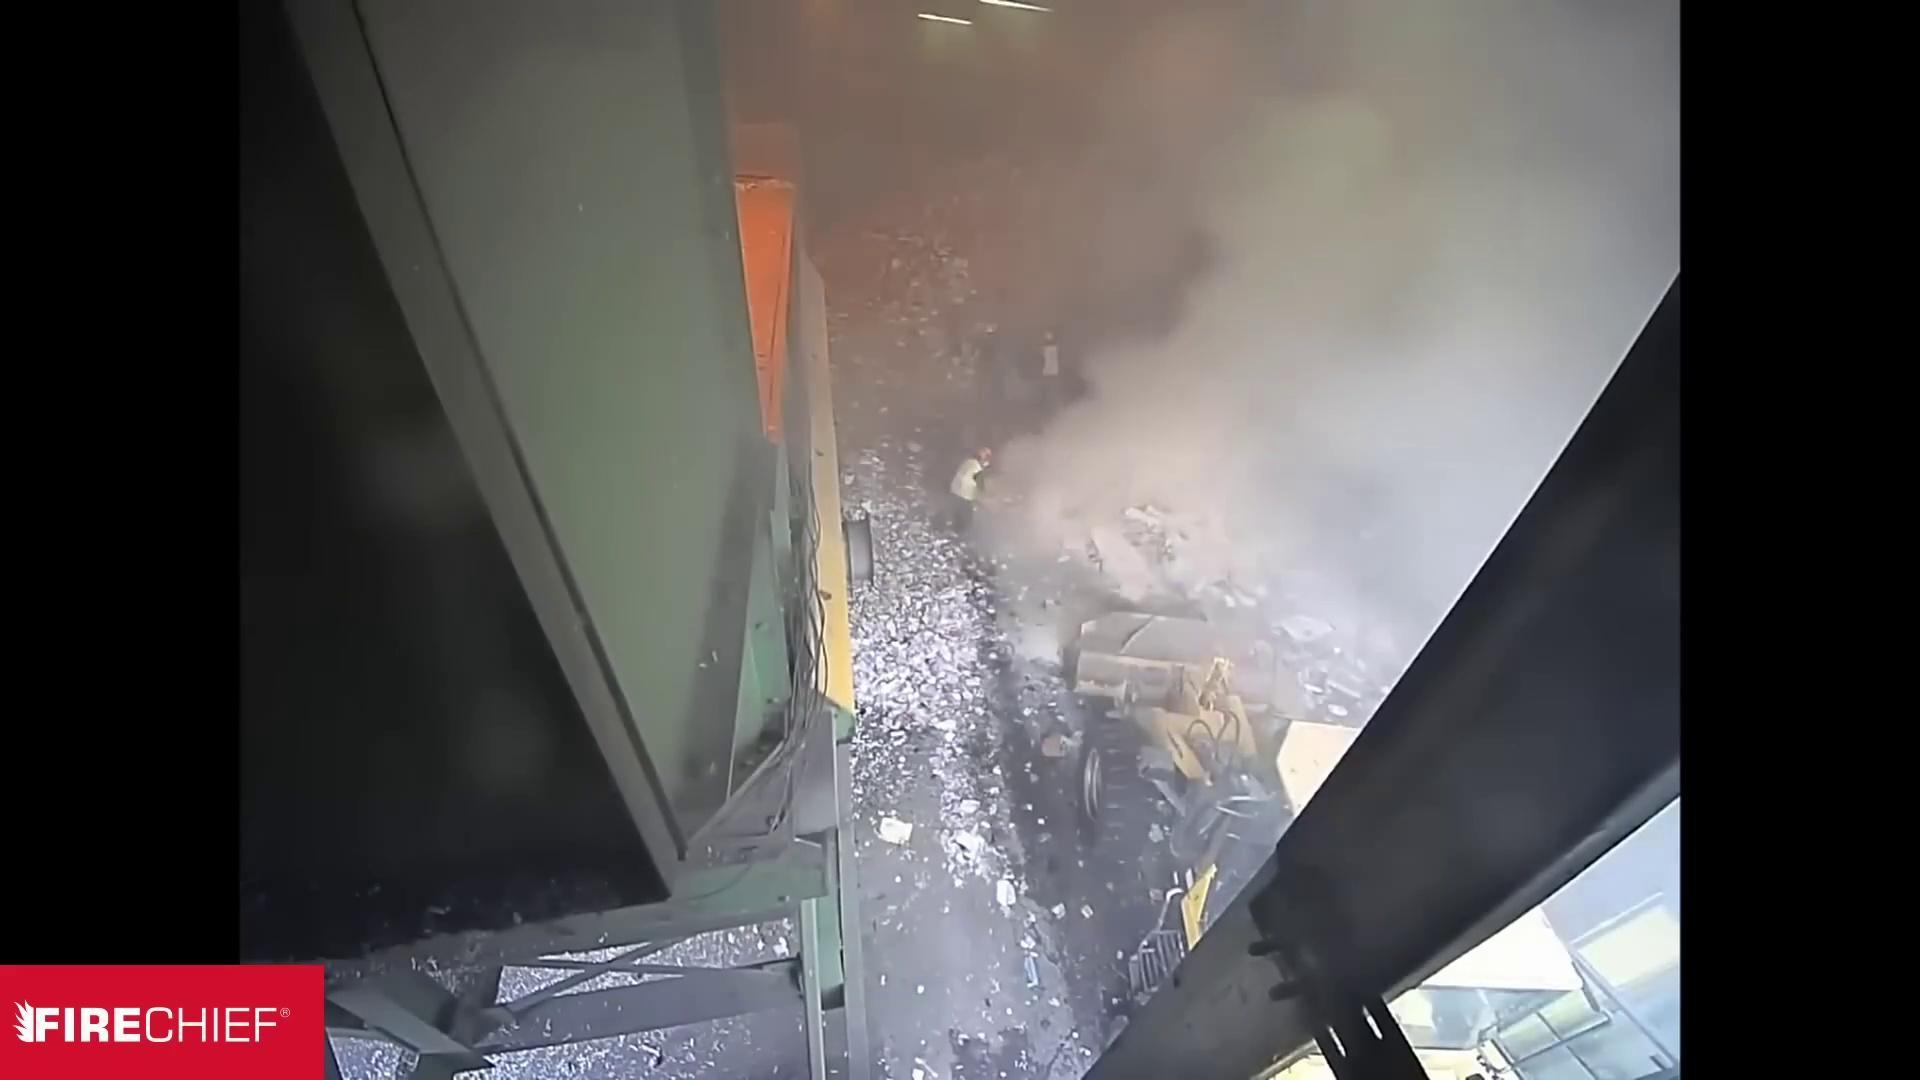smoke: (992, 108, 1414, 595)
